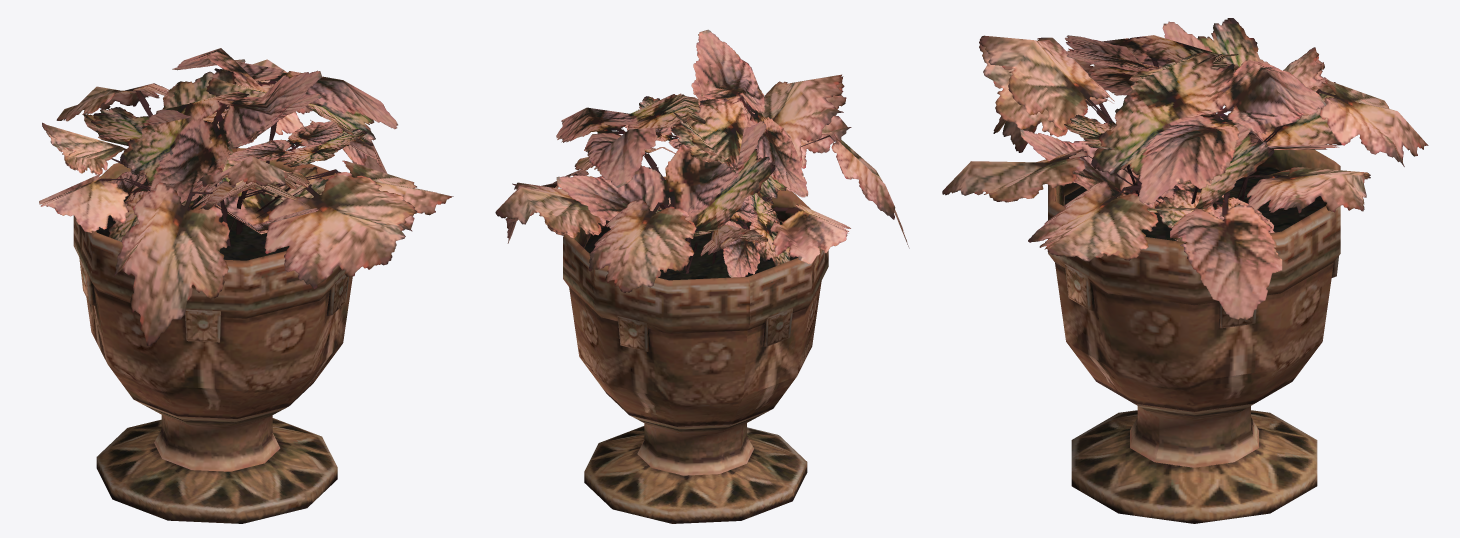
The model's file is pot_plant_small02_red.dae.
3 views of the same model, side by side, from view 1: azimuth 30°, elevation 25°; view 2: azimuth 150°, elevation 25°; view 3: azimuth 270°, elevation 25° (orthographic). The views are drawn at different scales.
Parts seen in each view (by area): view 1: Cylinder01; view 2: Cylinder01; view 3: Cylinder01.
Part boxes in pixels (left/top/right/bottom): Cylinder01: left=39, top=48, right=453, bottom=523; Cylinder01: left=495, top=29, right=909, bottom=523; Cylinder01: left=942, top=18, right=1428, bottom=523.
Bounding box in the file's own units: 0.5218 × 0.5728 × 0.5825.
